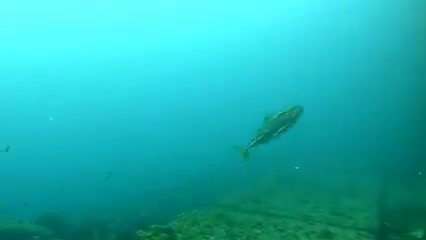smallfish: (233, 98, 304, 169)
